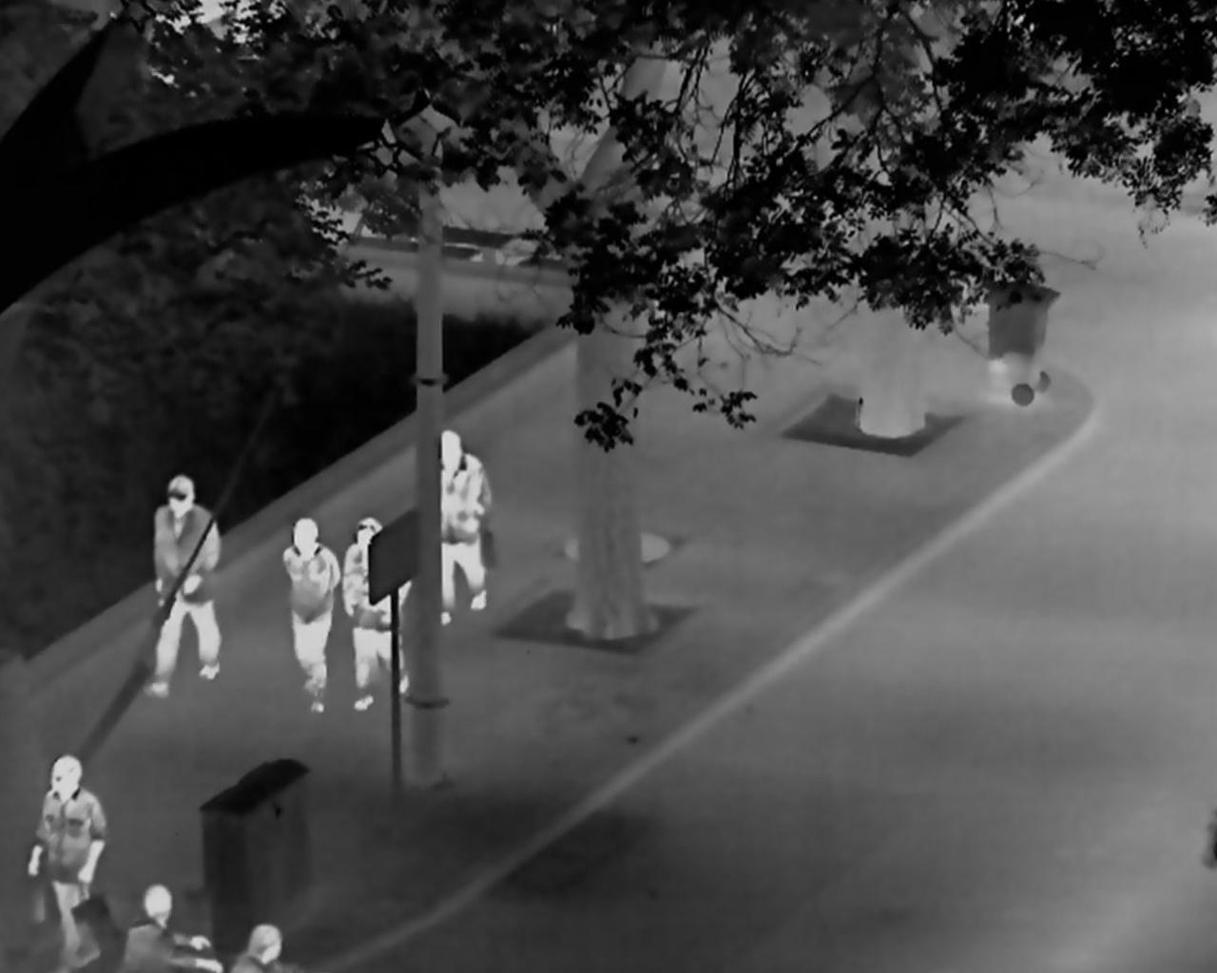person: (142, 474, 225, 697), (26, 754, 107, 973), (341, 516, 411, 710), (280, 516, 341, 715), (440, 423, 495, 627), (122, 880, 224, 973), (229, 922, 303, 973)
